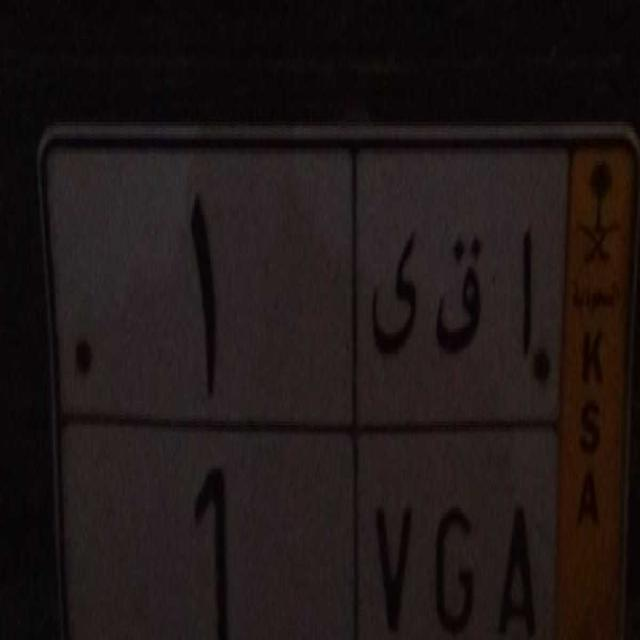license_plate: (54, 417, 556, 640)
